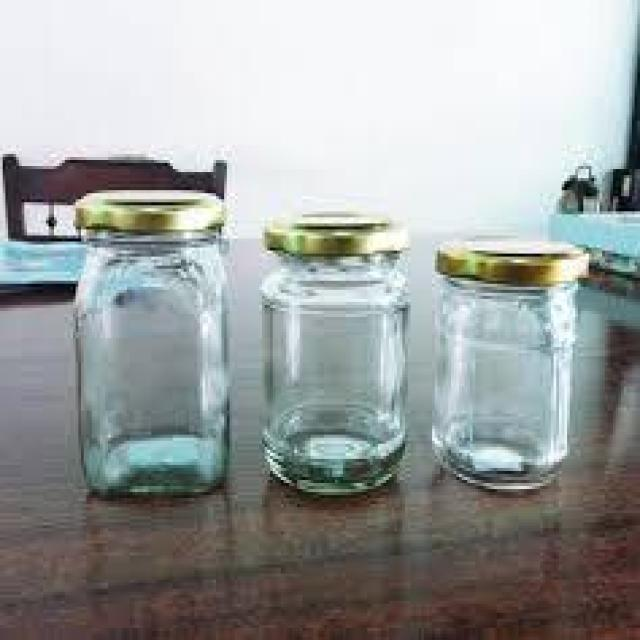Glass: (70, 186, 232, 504), (261, 206, 413, 498), (431, 238, 591, 491)
